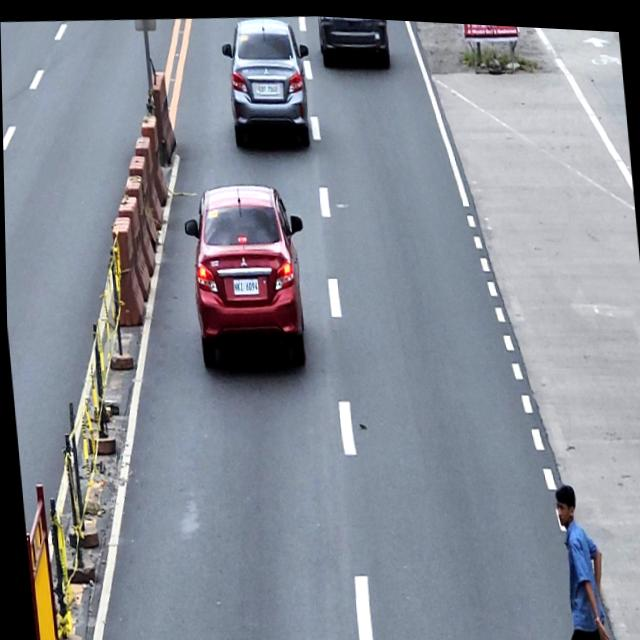Car: (178, 173, 315, 372), (218, 9, 318, 153), (316, 13, 391, 70)
License-Plate: (231, 274, 258, 293), (257, 77, 278, 94)
